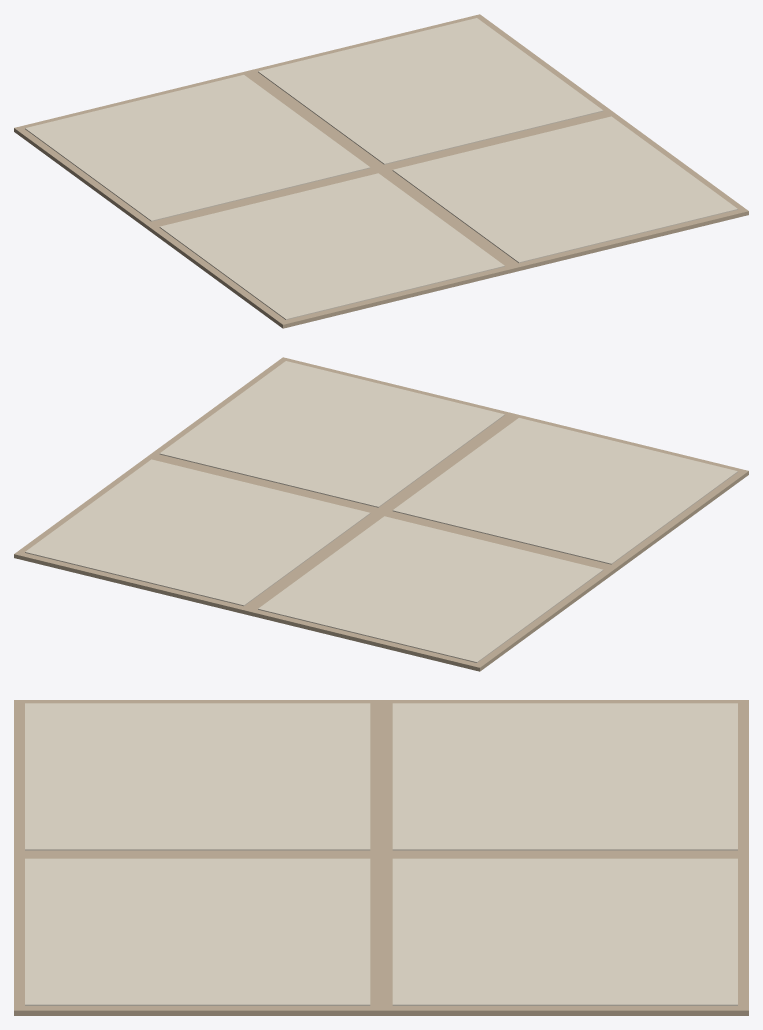
3 views of the same model, one above another, from view 1: azimuth 30°, elevation 25°; view 2: azimuth 150°, elevation 25°; view 3: azimuth 270°, elevation 25° (orthographic). The views are drawn at different scales.
Parts seen in each view (by area): view 1: tile-0.25--0.25, tile-0.25-0.25, tile--0.25--0.25, tile--0.25-0.25, floor-base; view 2: tile-0.25--0.25, tile-0.25-0.25, tile--0.25--0.25, tile--0.25-0.25, floor-base; view 3: tile--0.25--0.25, tile--0.25-0.25, tile-0.25--0.25, tile-0.25-0.25, floor-base.
Boxes of the visible parts, <box> form: tile-0.25--0.25: <box>258,18,603,164</box>; tile-0.25-0.25: <box>392,116,737,263</box>; tile--0.25--0.25: <box>25,75,370,221</box>; tile--0.25-0.25: <box>159,173,504,319</box>; floor-base: <box>14,14,748,328</box>; tile-0.25--0.25: <box>25,459,370,606</box>; tile-0.25-0.25: <box>159,361,504,507</box>; tile--0.25--0.25: <box>258,516,603,662</box>; tile--0.25-0.25: <box>392,418,737,564</box>; floor-base: <box>14,357,748,671</box>; tile--0.25--0.25: <box>392,703,737,850</box>; tile--0.25-0.25: <box>25,703,370,850</box>; tile-0.25--0.25: <box>392,858,737,1005</box>; tile-0.25-0.25: <box>25,858,370,1005</box>; floor-base: <box>14,700,748,1015</box>.
Size of the model in its own units: 1 by 0.01 by 1.
